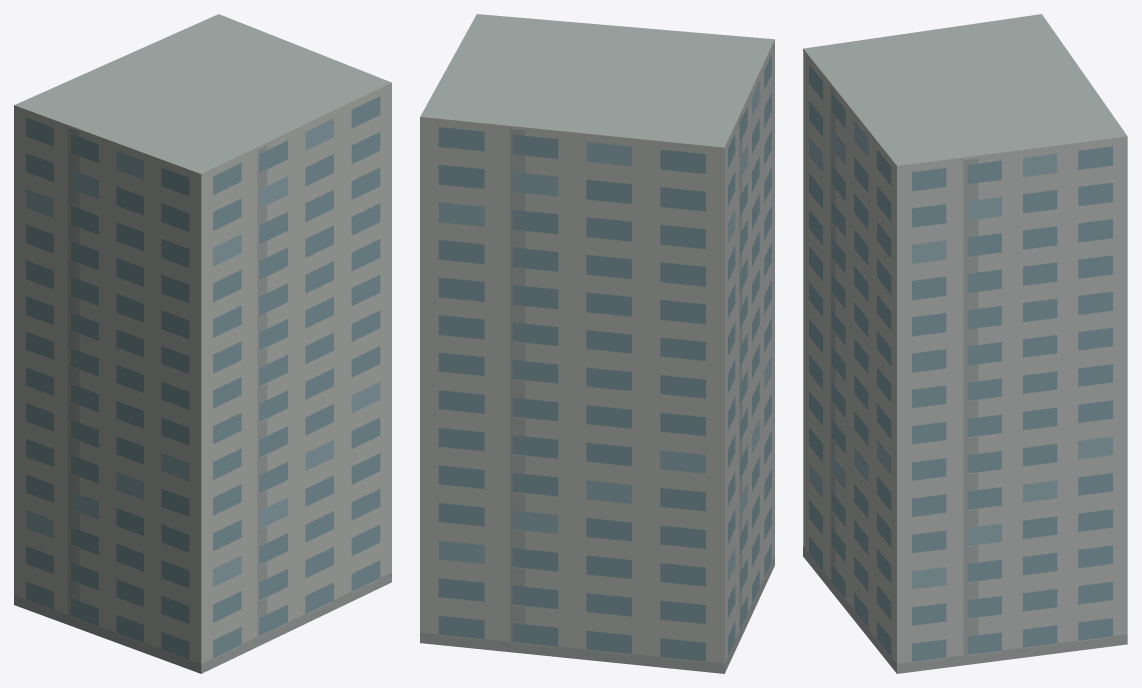
The model's file is residential-3989614e-82ab-4fd1-bda1-3cf3a8f31c32.glb.
3 views of the same model, side by side, from view 1: azimuth 30°, elevation 25°; view 2: azimuth 150°, elevation 25°; view 3: azimuth 270°, elevation 25° (orthographic). The views are drawn at different scales.
Visible parts, largest first — view 1: residential-3989614e-82ab-4fd1-bda1-3cf3a8f31c32.tmp; view 2: residential-3989614e-82ab-4fd1-bda1-3cf3a8f31c32.tmp; view 3: residential-3989614e-82ab-4fd1-bda1-3cf3a8f31c32.tmp.
Boxes of the visible parts, x1,y1,x2,y2 form: residential-3989614e-82ab-4fd1-bda1-3cf3a8f31c32.tmp: (14,14,391,673); residential-3989614e-82ab-4fd1-bda1-3cf3a8f31c32.tmp: (420,14,774,673); residential-3989614e-82ab-4fd1-bda1-3cf3a8f31c32.tmp: (803,14,1127,673).
Size of the model in its own units: 27.61 by 43 by 24.91.
